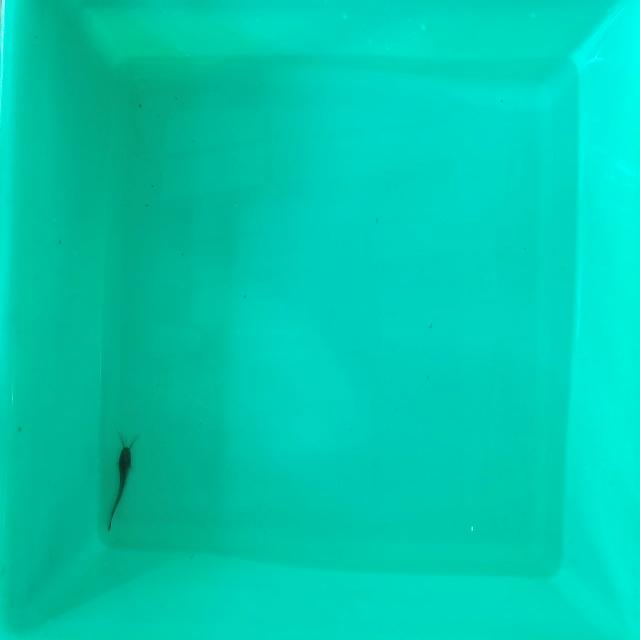lele: (106, 434, 136, 527)
